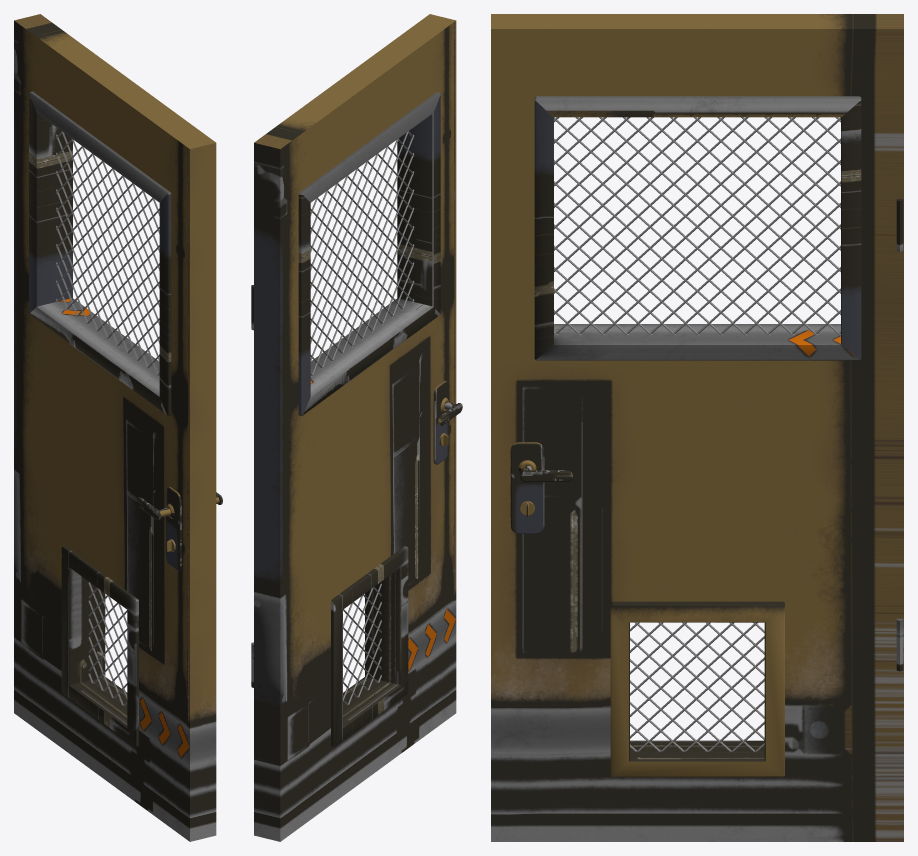
Rendered from Door door.fbx.
3 views of the same model, side by side, from view 1: azimuth 30°, elevation 25°; view 2: azimuth 150°, elevation 25°; view 3: azimuth 270°, elevation 25° (orthographic). The views are drawn at different scales.
Visible parts, largest first — view 1: Door_ Metal_ Old_15_MB; view 2: Door_ Metal_ Old_15_MB; view 3: Door_ Metal_ Old_15_MB.
Boxes of the visible parts, x1,y1,x2,y2 form: Door_ Metal_ Old_15_MB: [14, 14, 222, 841]; Door_ Metal_ Old_15_MB: [251, 14, 462, 841]; Door_ Metal_ Old_15_MB: [491, 14, 903, 841].
Bounding box in the file's own units: 28.16 × 285 × 131.
